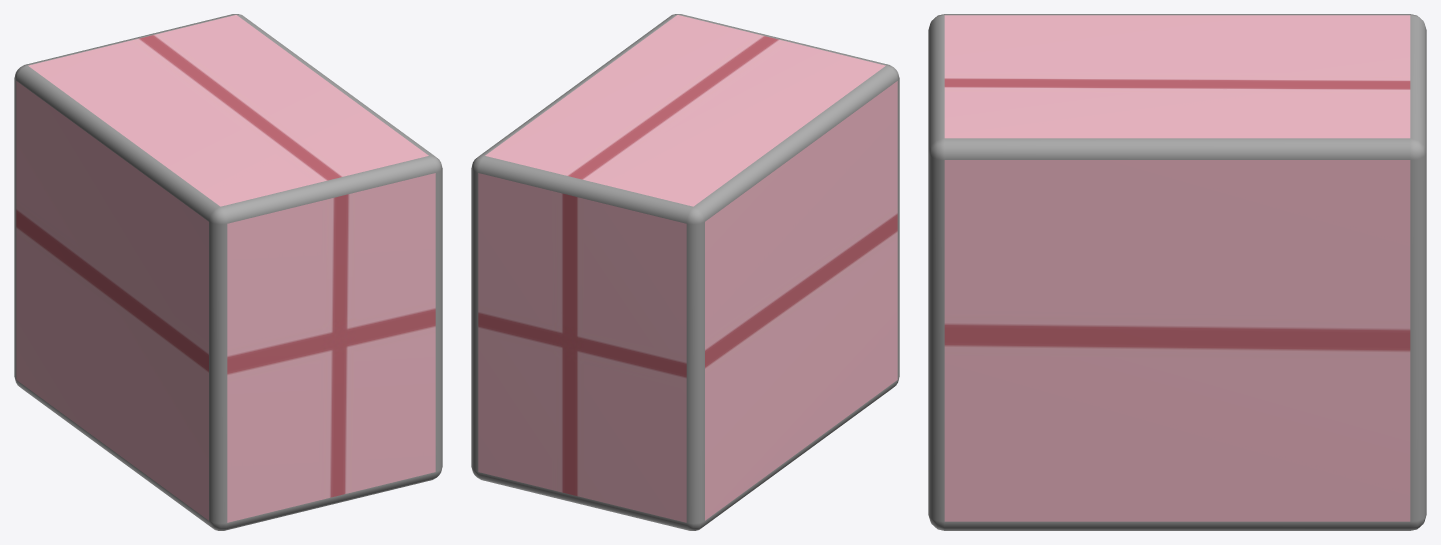
3 views of the same model, side by side, from view 1: azimuth 30°, elevation 25°; view 2: azimuth 150°, elevation 25°; view 3: azimuth 270°, elevation 25° (orthographic). The views are drawn at different scales.
Visible parts, largest first — view 1: Box_08; view 2: Box_08; view 3: Box_08.
Boxes of the visible parts, box(x1,y1,x2,y2) form: Box_08: box(14, 14, 442, 530); Box_08: box(471, 14, 899, 530); Box_08: box(928, 14, 1426, 530).
Size of the model in its own units: 28.45 by 37.94 by 43.81.
2 materials, 1 textured.
